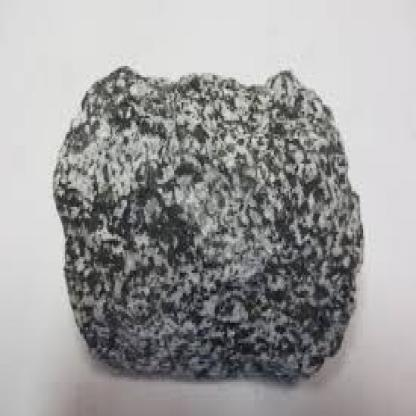Igneous_Diorite: (49, 61, 364, 389)
